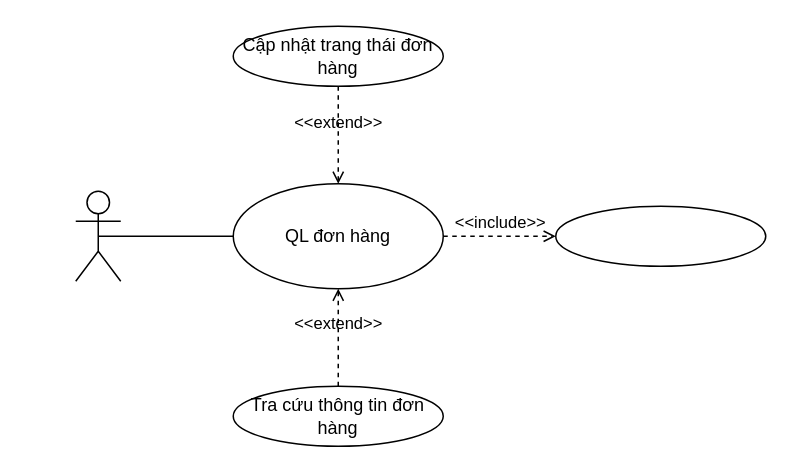
Image size: 792x473. Some labels were removed from this diagram. Each missing label, with the centre of its shape:
ADMIN, nhân viên: (97,235)
Đăng nhập thành công: (660,235)
